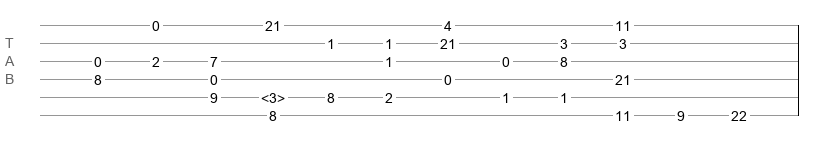0: (94, 54, 102, 64), (152, 18, 160, 28), (210, 72, 218, 82), (444, 72, 452, 82), (502, 54, 510, 64)
1: (327, 36, 335, 46), (385, 54, 393, 64), (385, 36, 393, 46), (502, 90, 510, 100), (560, 90, 568, 100)
11: (615, 18, 631, 28), (615, 108, 631, 118)
2: (152, 54, 160, 64), (385, 90, 393, 100)
21: (265, 18, 281, 28), (440, 36, 456, 46), (615, 72, 631, 82)
22: (731, 108, 747, 118)
3: (560, 36, 568, 46), (619, 36, 627, 46)
4: (444, 18, 452, 28)
7: (210, 54, 218, 64)
8: (94, 72, 102, 82), (269, 108, 277, 118), (327, 90, 335, 100), (560, 54, 568, 64)
9: (210, 90, 218, 100), (677, 108, 685, 118)
harmonic: (261, 90, 285, 100)
